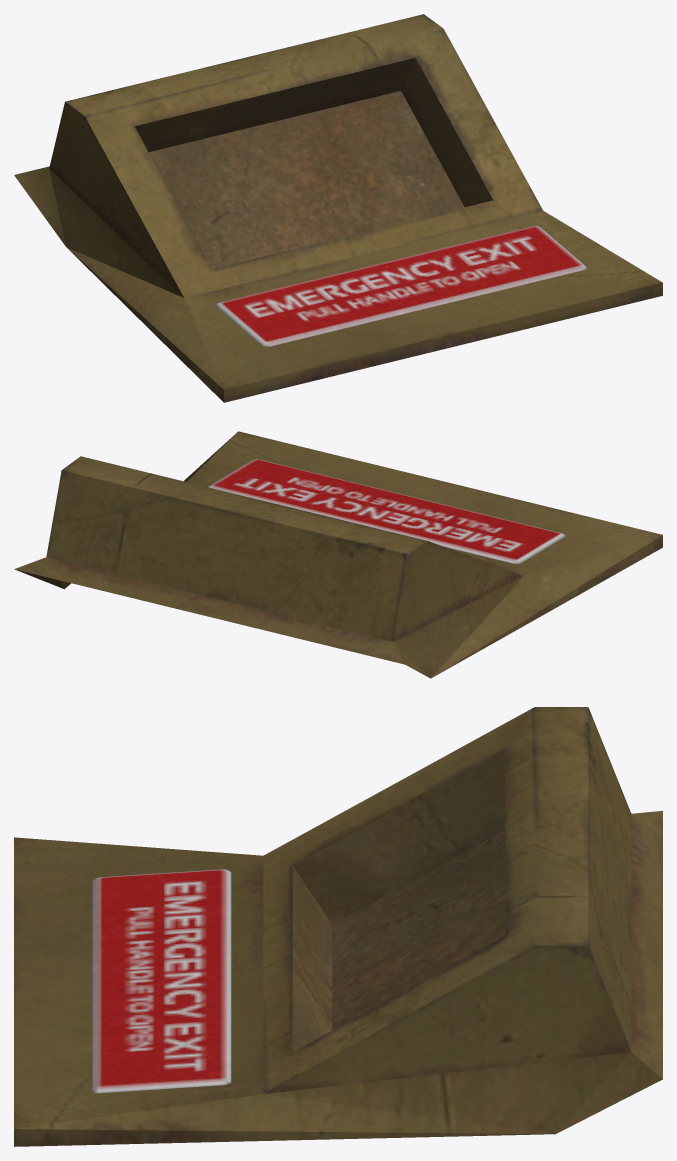
Rendered from 01_05_transporter_passenger_handle_housing.dae.
3 views of the same model, one above another, from view 1: azimuth 30°, elevation 25°; view 2: azimuth 150°, elevation 25°; view 3: azimuth 270°, elevation 25° (orthographic). The views are drawn at different scales.
Parts seen in each view (by area): view 1: handle_housing; view 2: handle_housing; view 3: handle_housing.
Part boxes in pixels (<box>): handle_housing: <box>14,14,662,402</box>; handle_housing: <box>14,431,662,678</box>; handle_housing: <box>14,707,662,1146</box>.
Bounding box in the file's own units: 0.5856 × 0.1797 × 0.5507.
